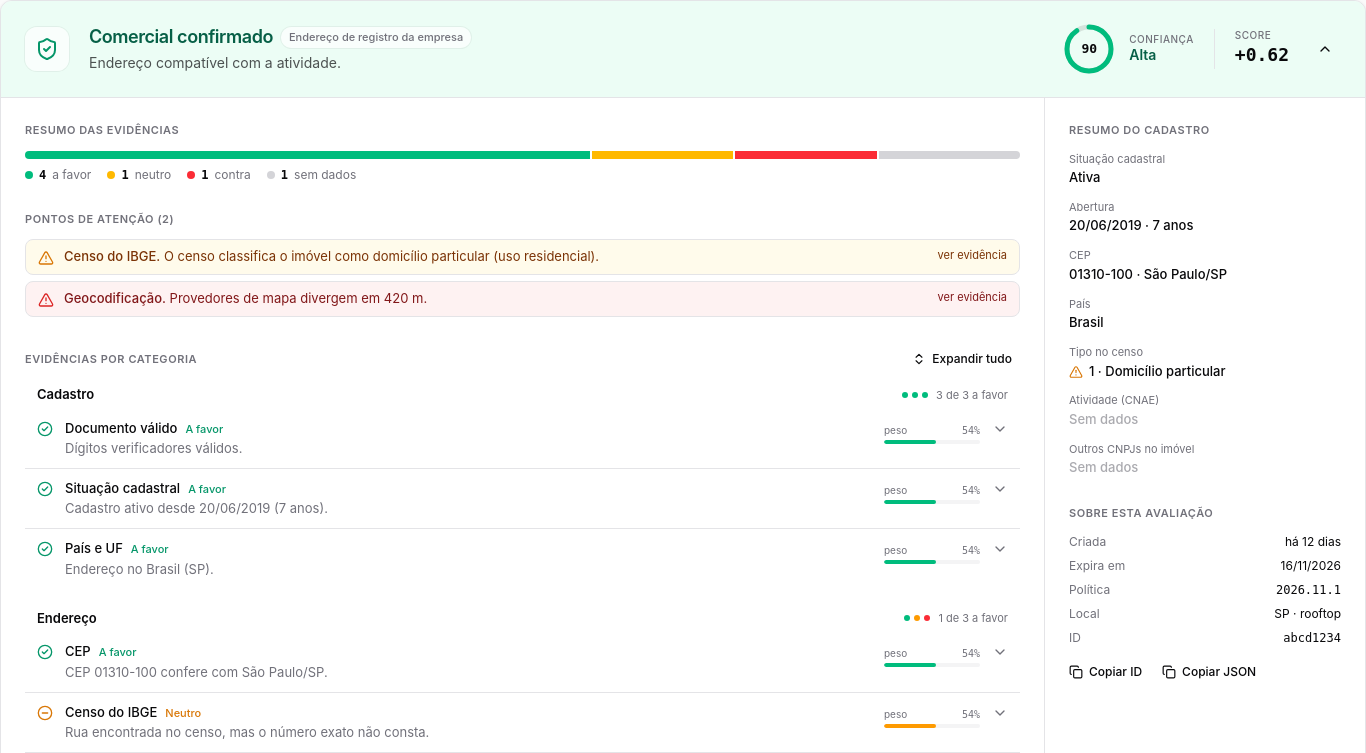
Test case: ValidationResult › recolhe o resultado mantendo o controle acessível
Click the button named "Recolher resultado" at [1325, 49], box [1309,33,1341,65]
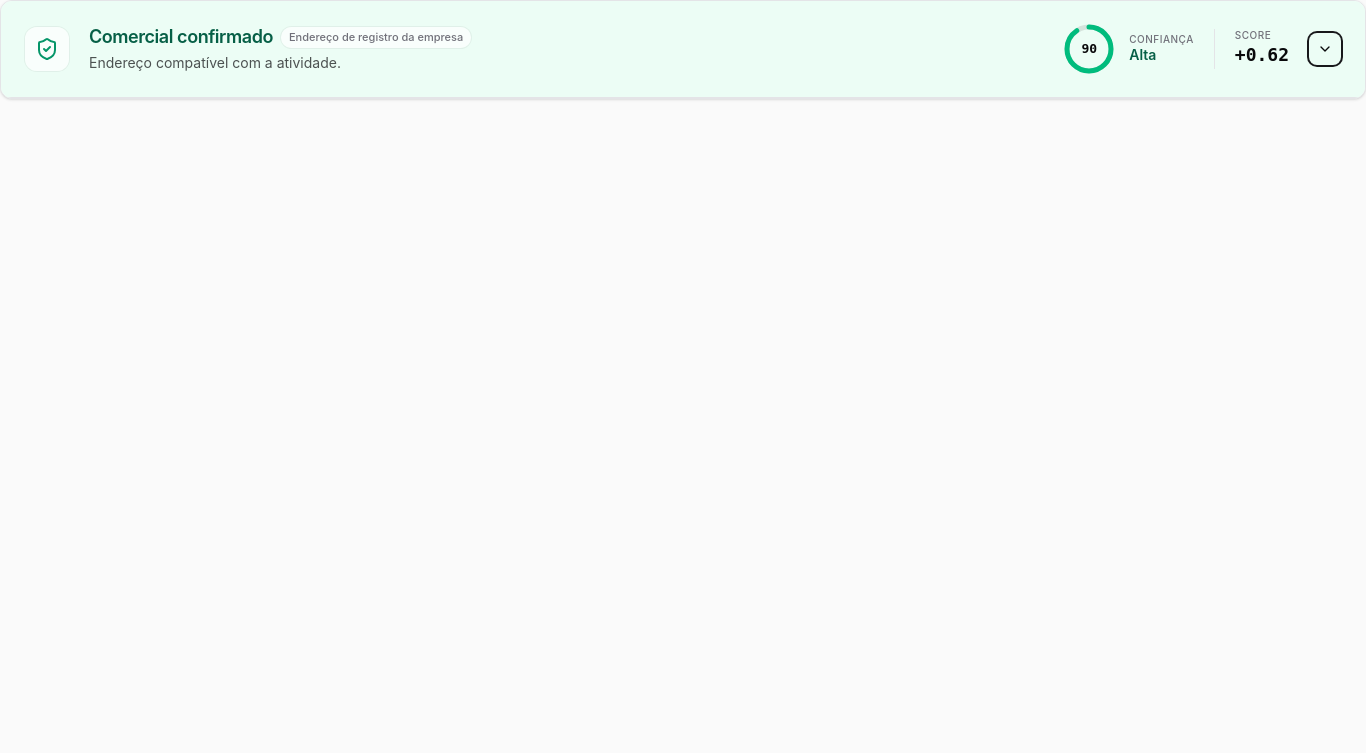
Result: the button named "Expandir resultado" is collapsed at [1309,33,1341,65]
